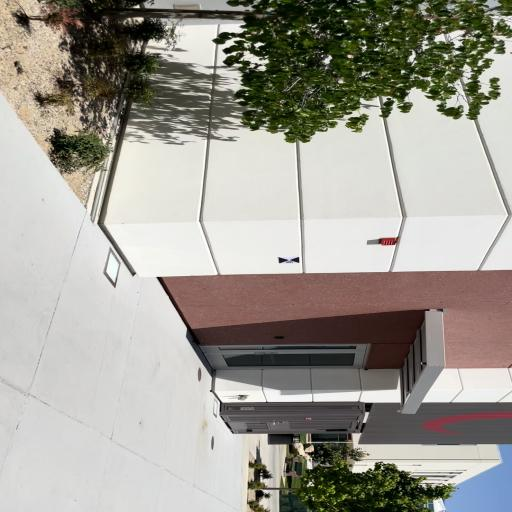target6: (277, 256, 300, 265)
